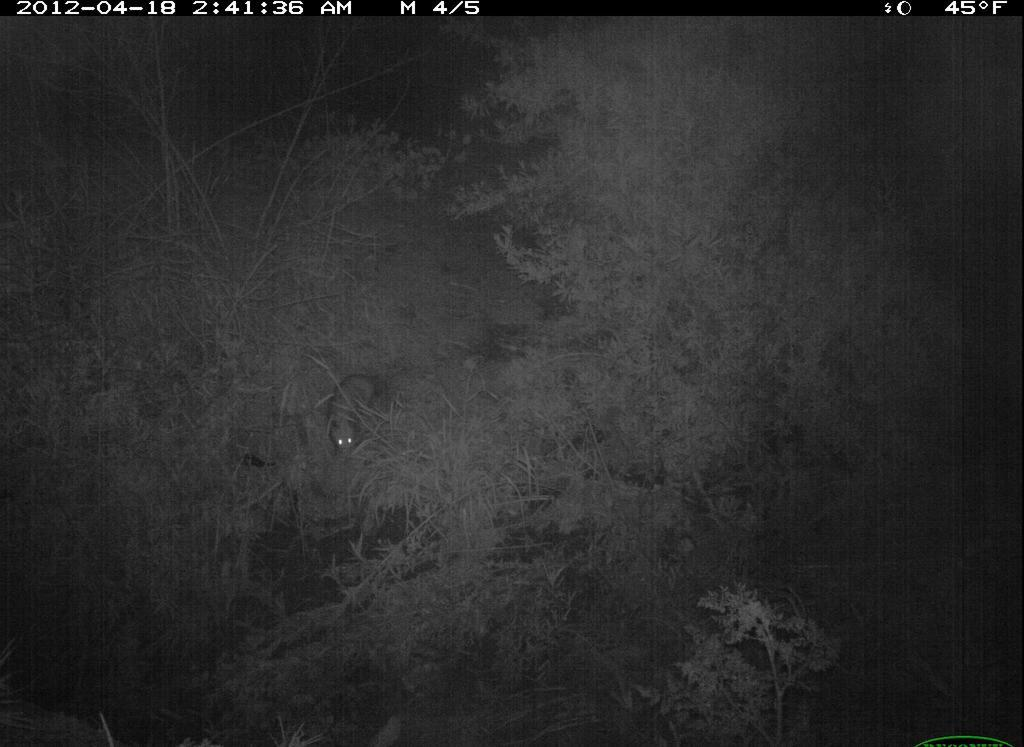opossum: (314, 365, 392, 468)
